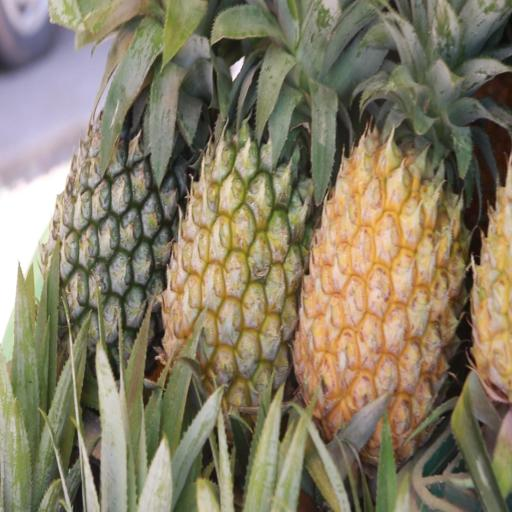------------------------------: (161, 0, 320, 432)
Pineapple - v8 v1: (294, 0, 478, 472)
